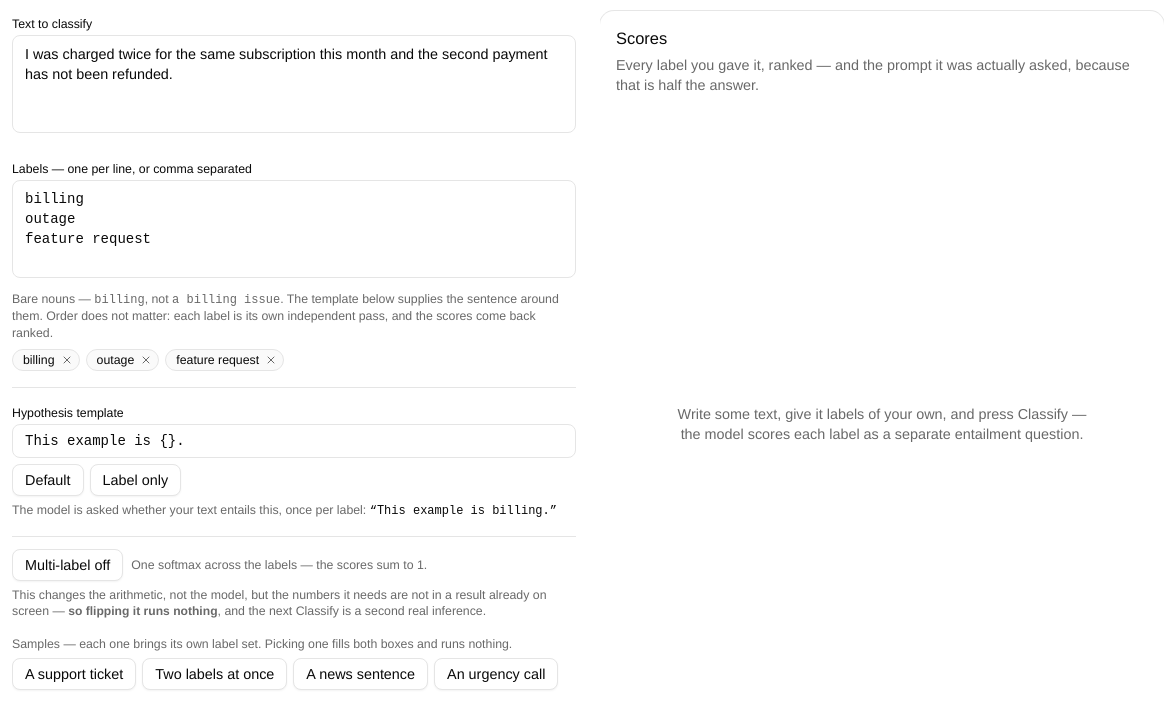
Test: ZeroShotClassificationPage › drops a label from the chip row without touching the model
(page scrolled)
Click the button named "remove outage" at (146, 360), box [138, 352, 154, 368]
(page scrolled)
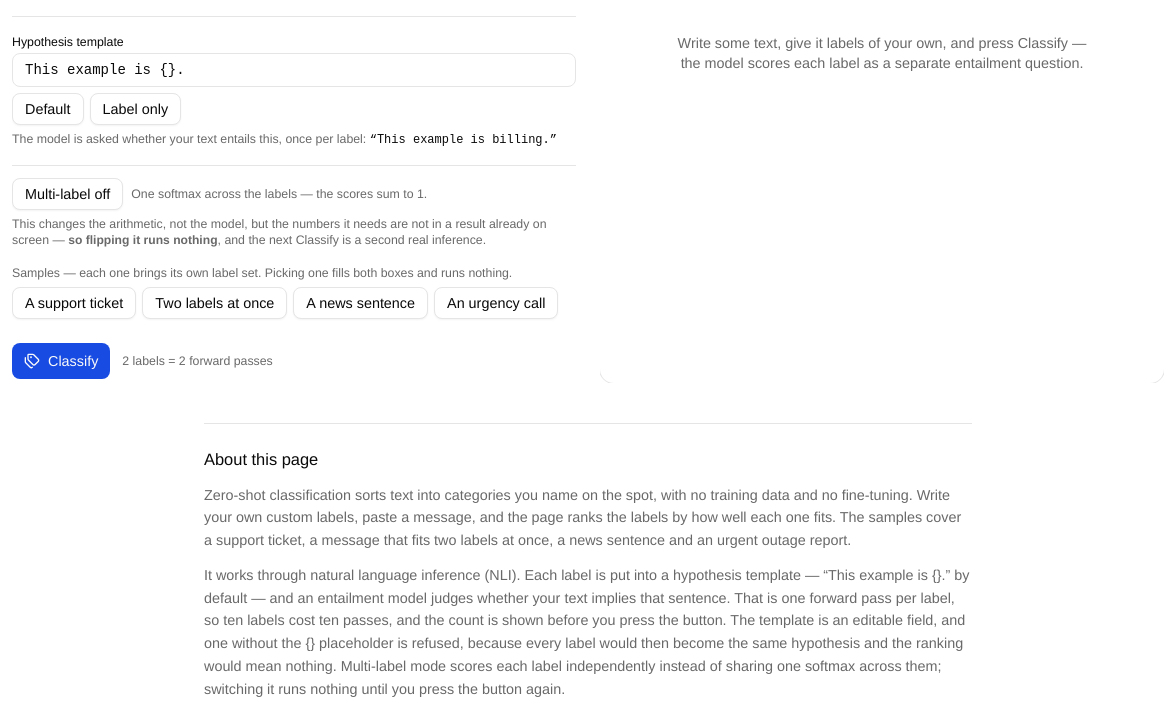
expect the text with test id "pass-count" shows "2 labels": met, box [122, 352, 273, 368]
